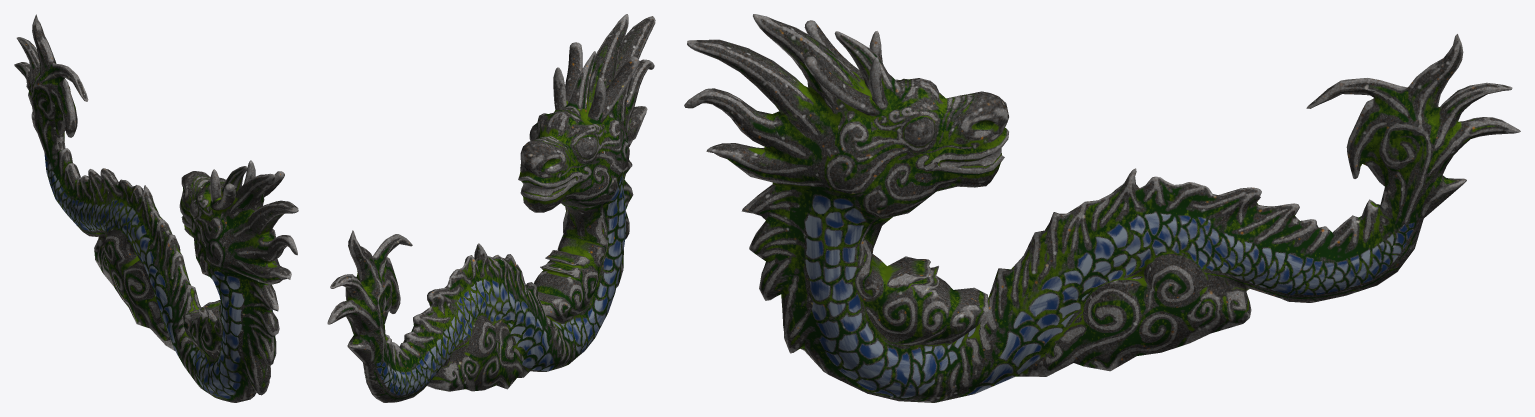
File: rong_dragon_of__turtle_tower_on_hoan_kiem_lake.glb
3 views of the same model, side by side, from view 1: azimuth 30°, elevation 25°; view 2: azimuth 150°, elevation 25°; view 3: azimuth 270°, elevation 25° (orthographic). The views are drawn at different scales.
Parts seen in each view (by area): view 1: Object_2; view 2: Object_2; view 3: Object_2.
Part boxes in pixels (bbox=[...]): Object_2: bbox=[14, 14, 298, 402]; Object_2: bbox=[327, 14, 655, 402]; Object_2: bbox=[684, 14, 1520, 402].
Size of the model in its own units: 1.34 by 5.24 by 10.27.
1 material, 1 textured.
